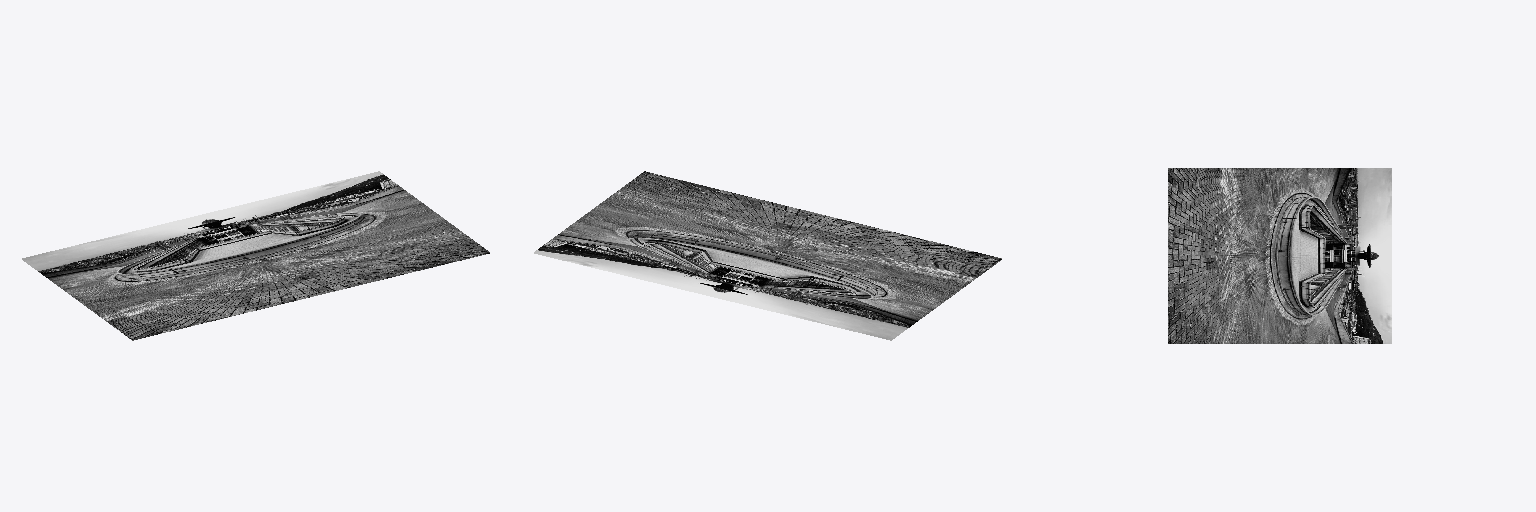
3 views of the same model, side by side, from view 1: azimuth 30°, elevation 25°; view 2: azimuth 150°, elevation 25°; view 3: azimuth 270°, elevation 25° (orthographic).
Parts seen in each view (by area): view 1: Plane001; view 2: Plane001; view 3: Plane001.
Boxes of the visible parts, x1=… form: Plane001: x1=22, y1=171, x2=489, y2=340; Plane001: x1=534, y1=171, x2=1001, y2=340; Plane001: x1=1168, y1=168, x2=1391, y2=343.
Size of the model in its own units: 5.04 by 0 by 2.72.
Materials: 1 (1 with a texture image).